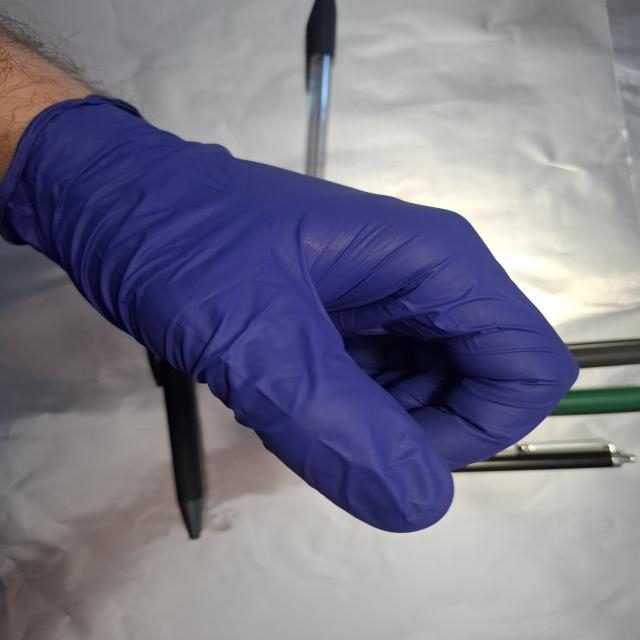glove_on: (5, 89, 583, 538)
